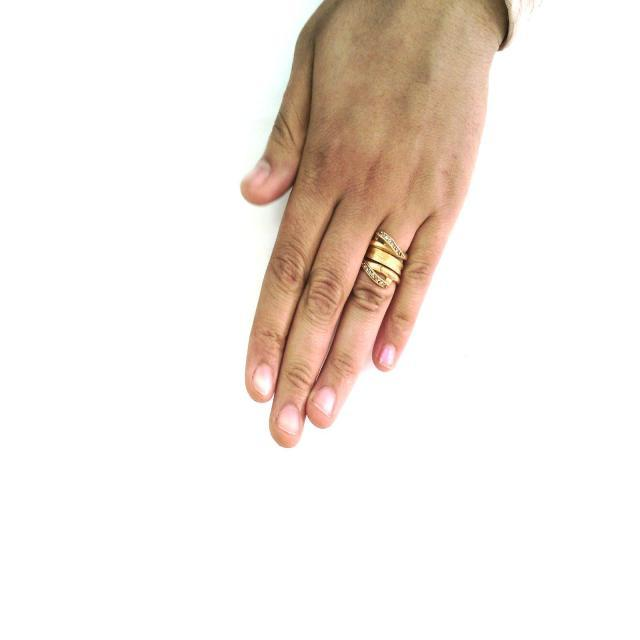Fingernail: (312, 387, 337, 417), (277, 403, 299, 435), (243, 161, 270, 186), (253, 363, 272, 396), (379, 343, 396, 369)
